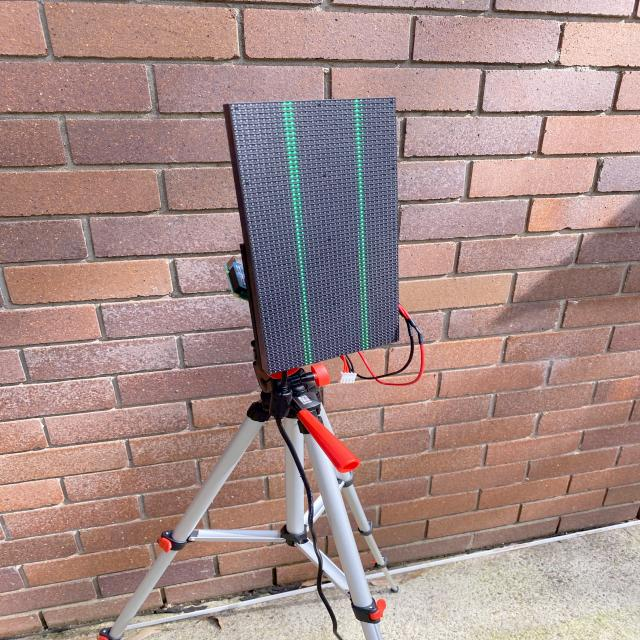matrix: (212, 90, 436, 382)
